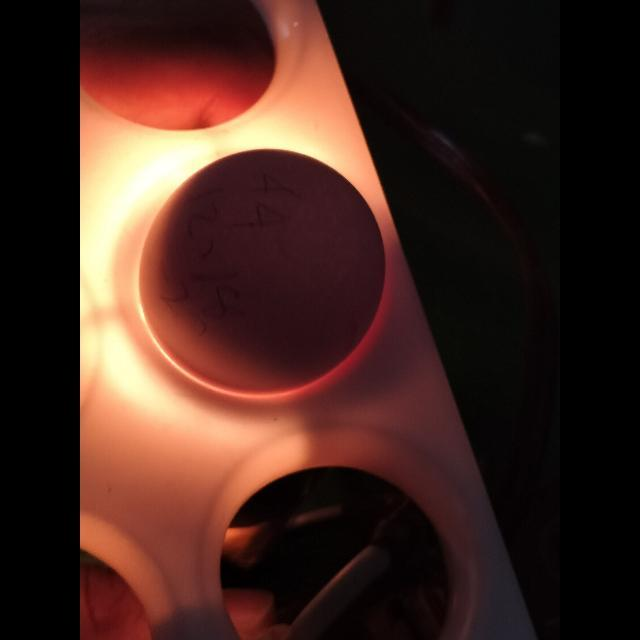Fertile: (143, 146, 395, 384)
